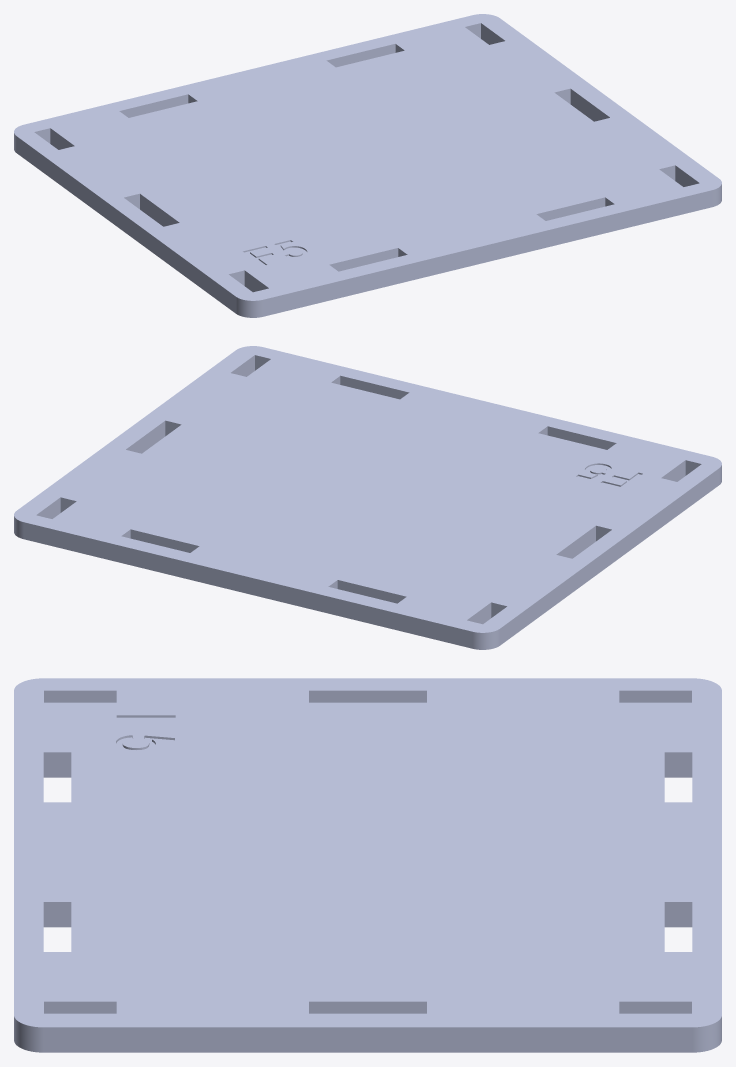
3 renders of one model, top to bottom at view 1: azimuth 30°, elevation 25°; view 2: azimuth 150°, elevation 25°; view 3: azimuth 270°, elevation 25°, orthographic. The views are drawn at different scales.
Visible parts, largest first — view 1: F5; view 2: F5; view 3: F5.
Part boxes in pixels (x1,y1,x2,y2): F5: [14, 14, 721, 317]; F5: [14, 346, 721, 649]; F5: [14, 678, 721, 1052].
Size of the model in its own units: 0.0889 by 0.003 by 0.0762.
